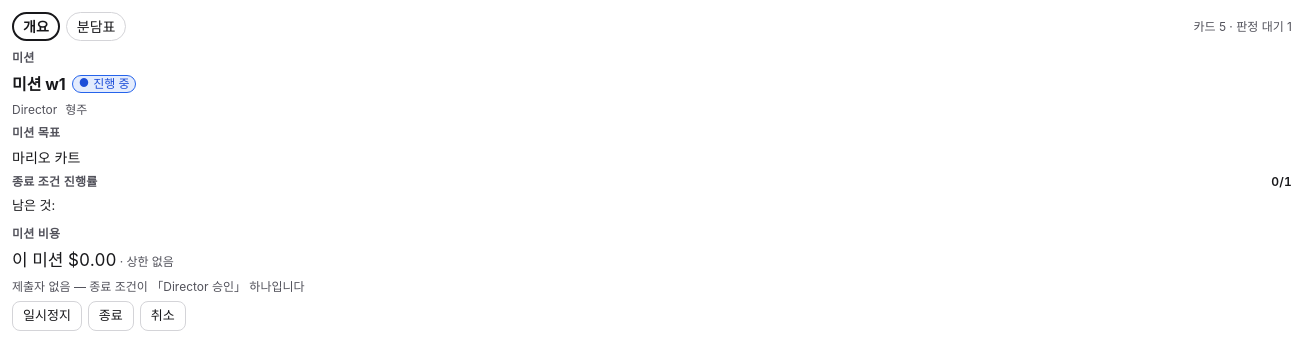
Test: WorkPanel 탭 — 카드 0 이면 탭 줄 없음(지금 화면 그대로), 있으면 「개요 · 분담표」 › 카드가 있으면 탭 둘 · 머리 「카드 5 · 판정 대기 1」 · 개요가 먼저
Check: the text with test id "card-board-head" reads "카드 5 · 판정 대기 1", box [1193,18,1292,34]
Click the tab with test id "work-panel-tab-board": (96,26) [66,12,126,41]
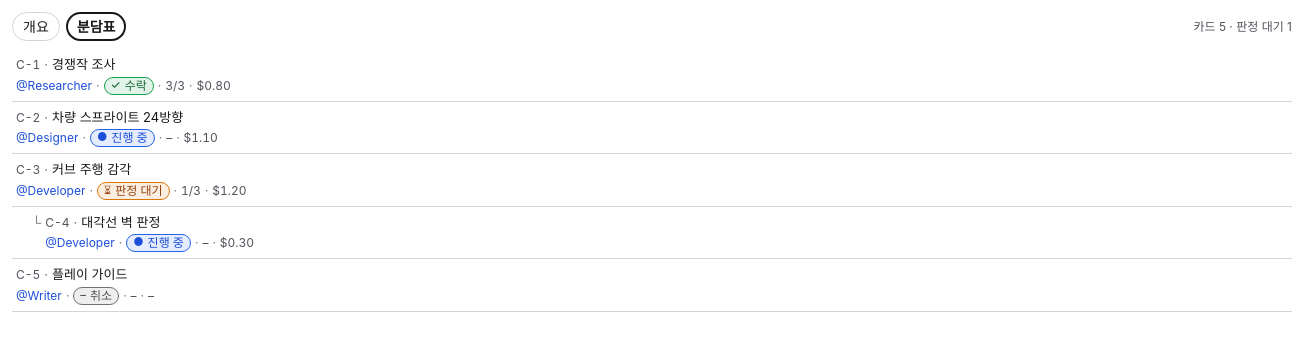
Check: the list with test id "card-board" is shown
